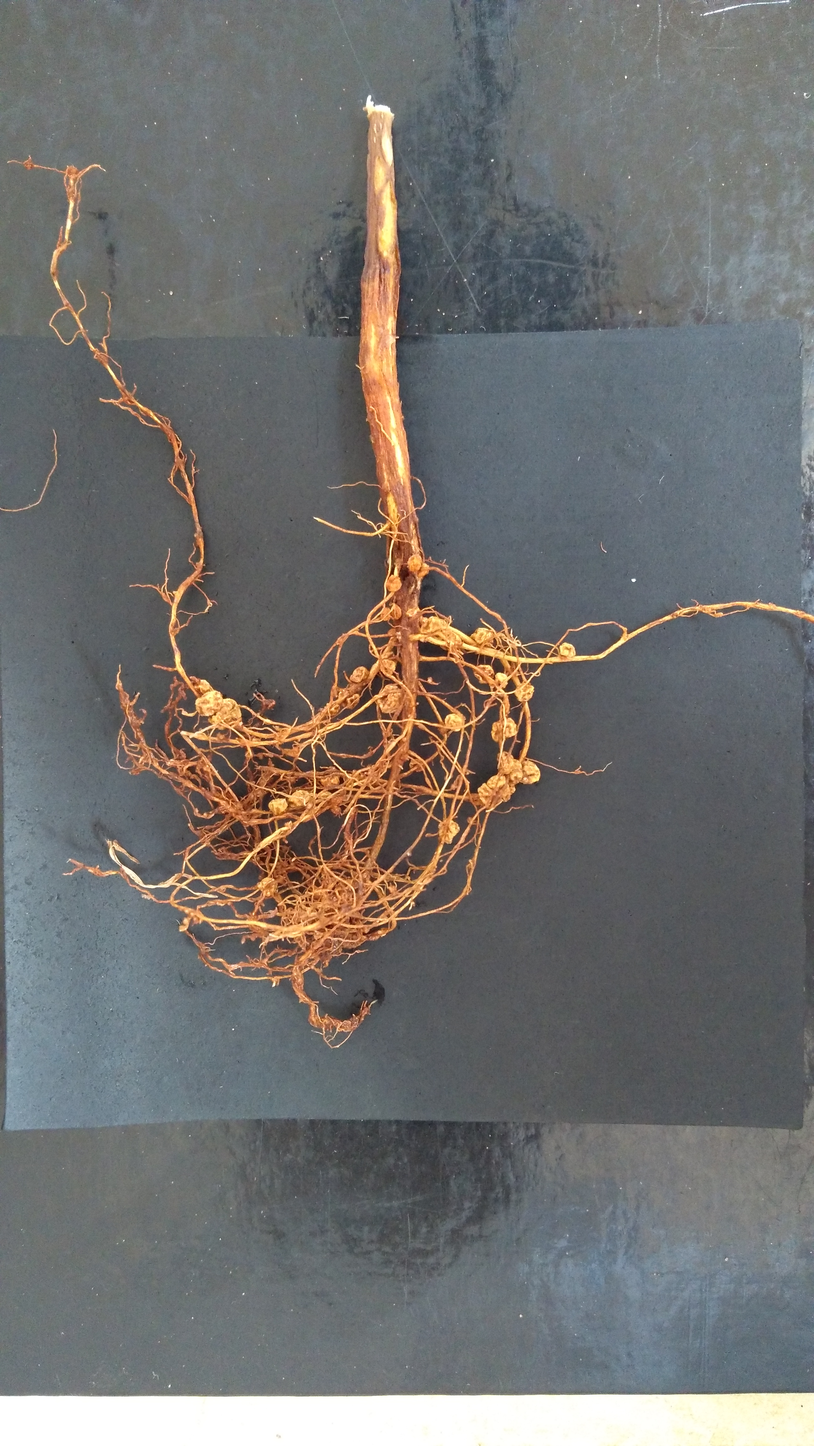nodule: (207, 697, 243, 730), (376, 682, 405, 716), (194, 689, 224, 717), (437, 818, 461, 845), (468, 626, 495, 649), (519, 760, 542, 785), (504, 758, 523, 786), (476, 782, 495, 808), (437, 628, 463, 647), (420, 616, 449, 633), (513, 680, 535, 702), (472, 664, 495, 685), (495, 750, 514, 775), (256, 876, 277, 898), (288, 789, 312, 807), (443, 712, 463, 733), (348, 665, 370, 684), (558, 640, 578, 660), (267, 797, 289, 815), (405, 552, 423, 573), (501, 717, 518, 739), (192, 678, 215, 694), (384, 574, 403, 593), (379, 658, 398, 677), (341, 693, 360, 711), (499, 784, 516, 804), (490, 720, 504, 744), (319, 774, 341, 789), (486, 774, 505, 789), (409, 758, 426, 773), (494, 671, 508, 689), (416, 562, 430, 578), (390, 603, 402, 621), (317, 789, 332, 801), (380, 606, 391, 622), (331, 805, 341, 816), (386, 627, 396, 637), (466, 816, 475, 825)
